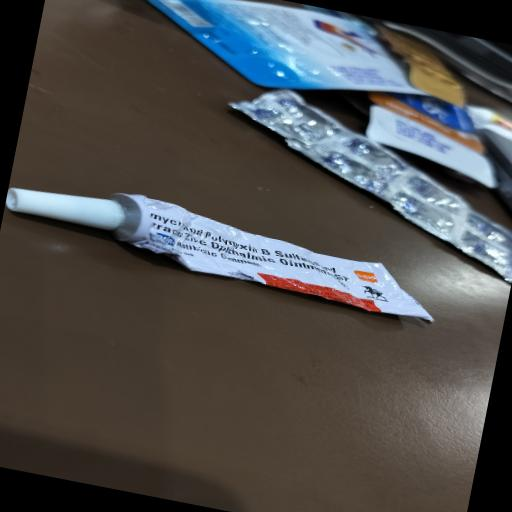medicine: (0, 164, 447, 331)
neomycin: (133, 204, 356, 284)
